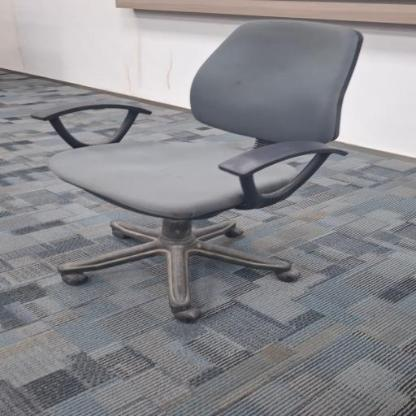chair: (32, 12, 368, 322)
